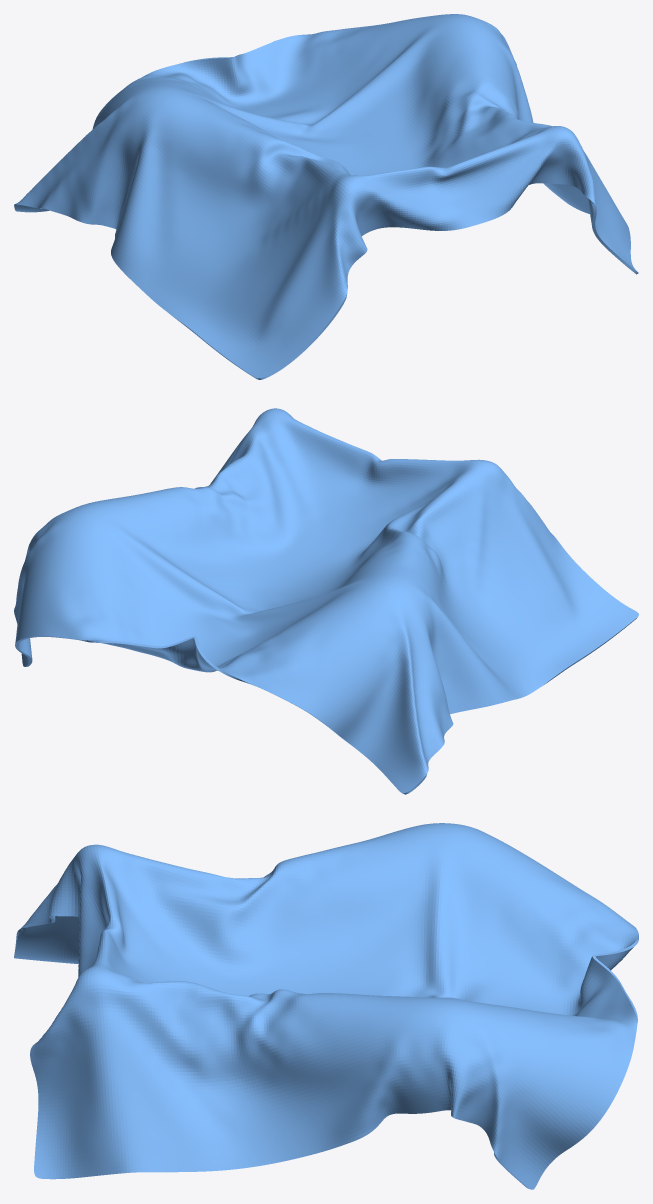
The model's file is tecido2.fbx.
3 renders of one model, top to bottom at view 1: azimuth 30°, elevation 25°; view 2: azimuth 150°, elevation 25°; view 3: azimuth 270°, elevation 25°, orthographic. The views are drawn at different scales.
Parts seen in each view (by area): view 1: Plane.001; view 2: Plane.001; view 3: Plane.001.
Part boxes in pixels (x1,y1,x2,y2): Plane.001: [14, 14, 638, 379]; Plane.001: [14, 408, 638, 794]; Plane.001: [14, 823, 638, 1189].
Bounding box in the file's own units: 265 × 85.43 × 259.
